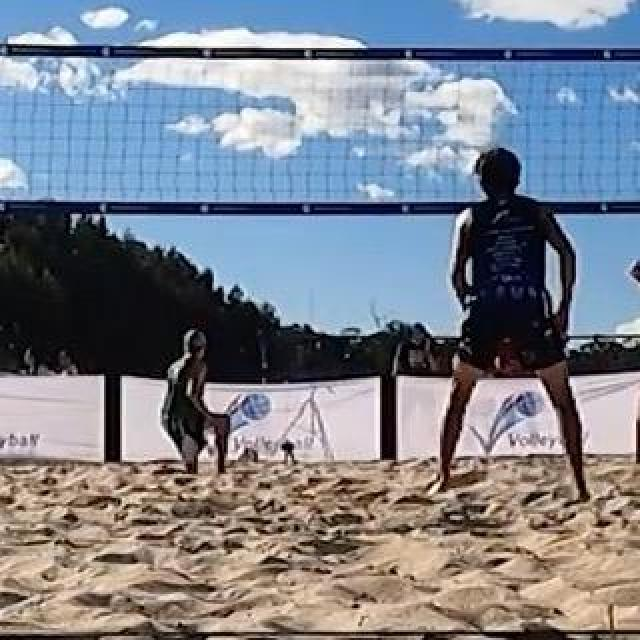volleyball: (236, 446, 258, 468)
